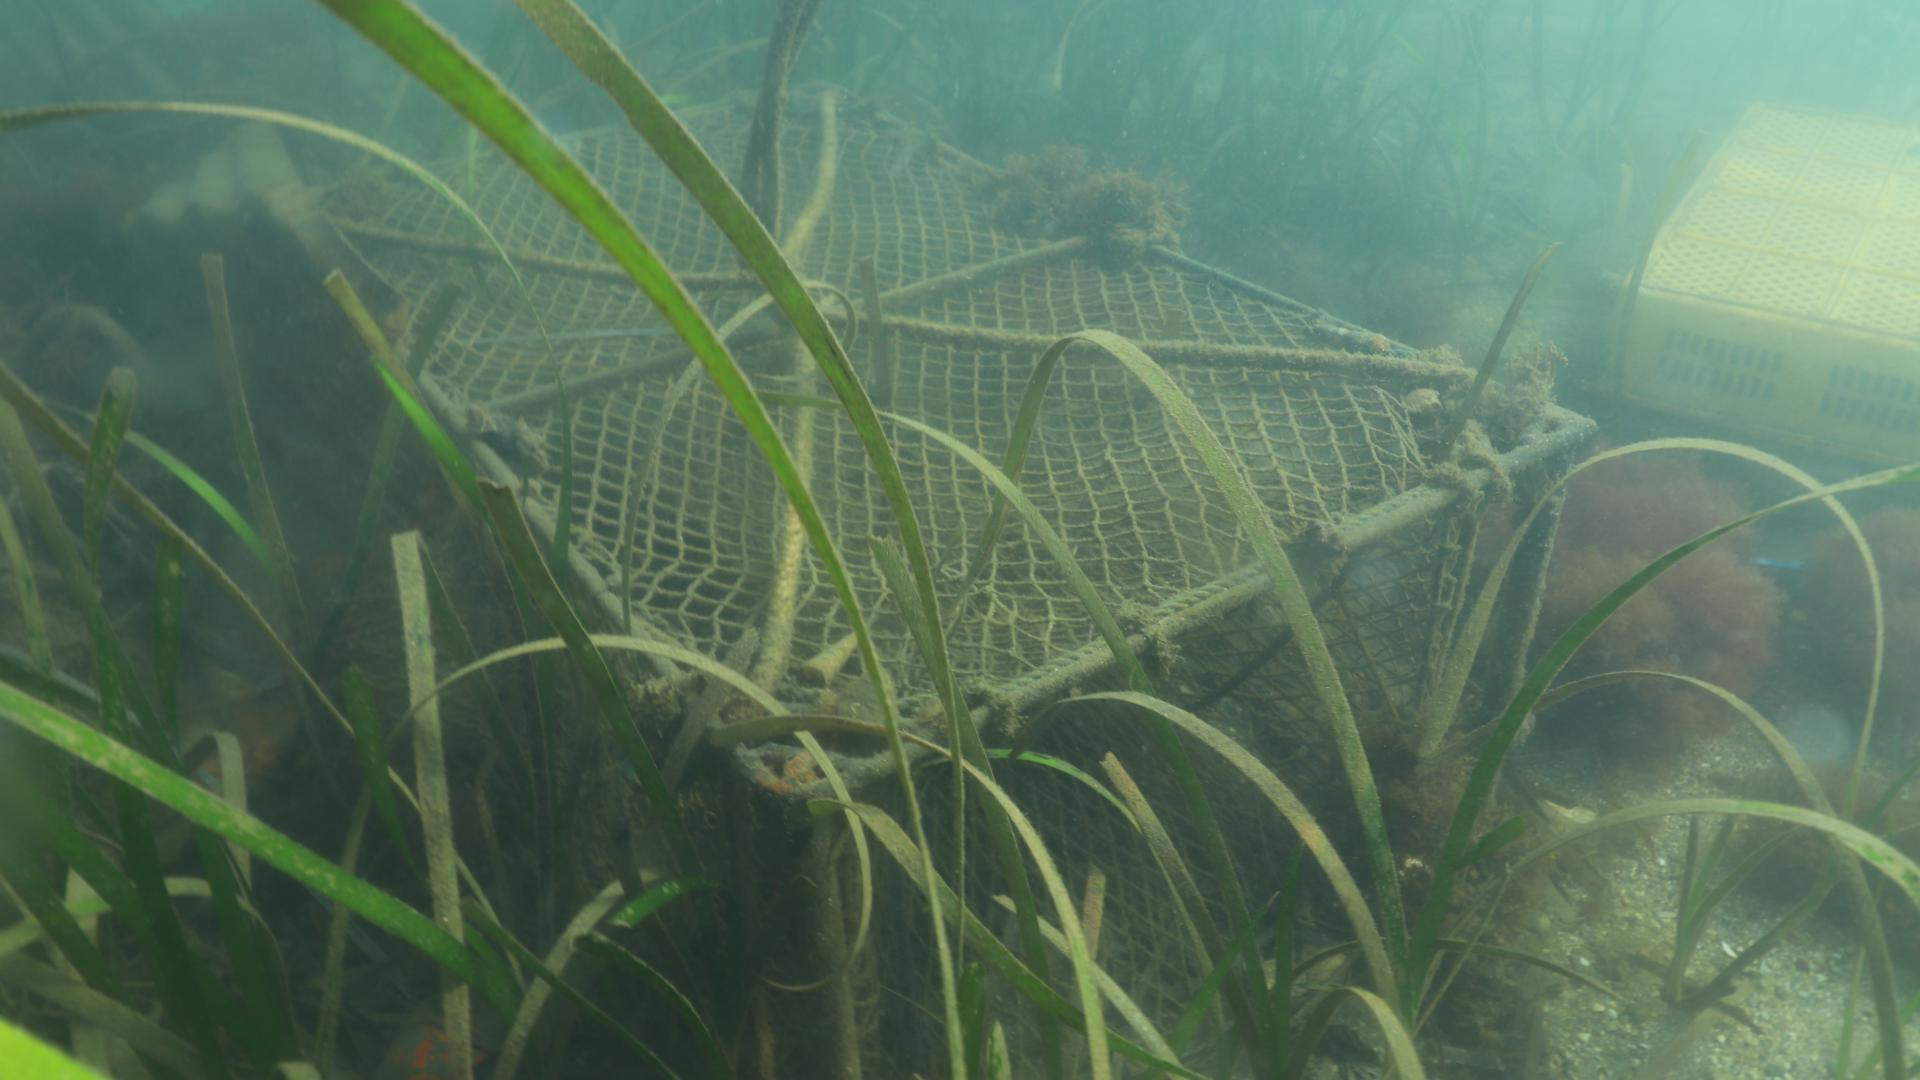rectangular fish trap: (270, 74, 1602, 1080)
